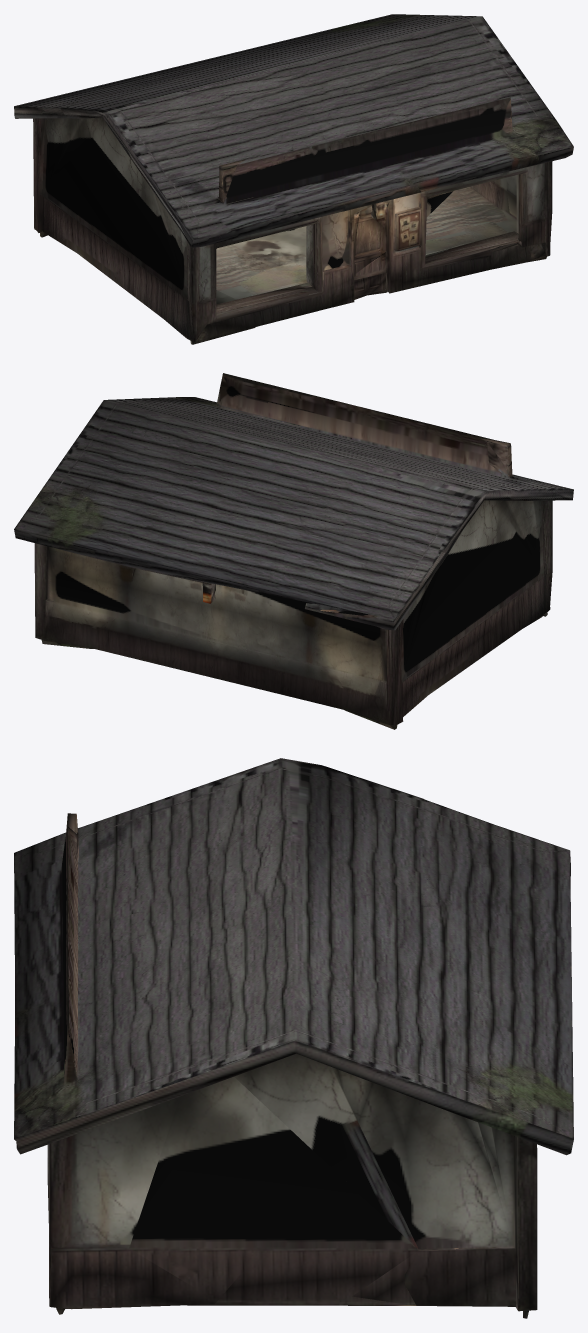
File: Shop.glb
3 views of the same model, one above another, from view 1: azimuth 30°, elevation 25°; view 2: azimuth 150°, elevation 25°; view 3: azimuth 270°, elevation 25° (orthographic). The views are drawn at different scales.
Parts seen in each view (by area): view 1: Mesh1.0; view 2: Mesh1.0; view 3: Mesh1.0.
Part boxes in pixels (<box>): Mesh1.0: <box>14,14,573,344</box>; Mesh1.0: <box>14,373,573,729</box>; Mesh1.0: <box>14,758,573,1318</box>.
Bounding box in the file's own units: 1.9 × 0.8875 × 1.56.
1 material, 1 textured.
